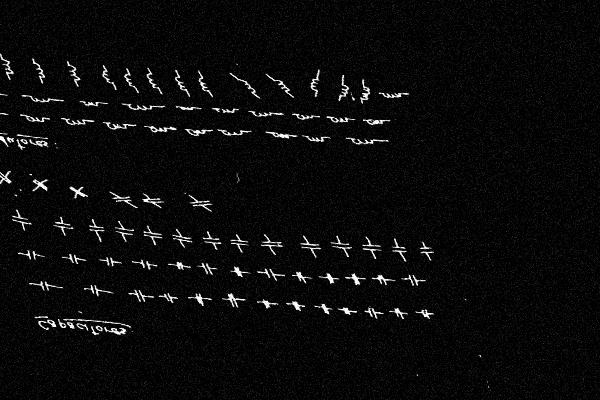capacitor: (358, 237, 386, 258), (326, 237, 357, 255), (295, 237, 325, 255), (256, 236, 286, 252), (258, 265, 283, 284), (49, 217, 76, 234), (221, 290, 243, 310), (196, 259, 219, 278), (185, 196, 216, 210), (403, 271, 427, 289), (8, 212, 35, 228), (227, 235, 254, 251), (168, 231, 196, 246), (32, 278, 58, 294), (387, 240, 410, 258), (110, 223, 137, 238), (188, 290, 210, 308), (371, 271, 394, 288), (134, 256, 158, 272), (344, 270, 365, 288), (138, 194, 167, 207), (200, 233, 225, 248), (128, 287, 150, 304), (319, 269, 339, 287), (416, 242, 437, 259), (227, 264, 249, 280), (140, 228, 165, 242), (84, 221, 108, 235), (84, 282, 105, 298), (291, 269, 312, 285), (314, 300, 333, 317), (67, 185, 90, 199), (30, 177, 51, 192), (21, 248, 43, 262), (286, 298, 305, 314), (64, 252, 85, 266), (109, 194, 135, 205), (158, 291, 177, 306), (388, 307, 408, 321), (364, 306, 382, 321), (257, 296, 275, 311), (170, 259, 190, 272), (338, 303, 355, 318), (101, 254, 119, 268), (418, 308, 435, 321), (0, 170, 14, 185)
inductor: (233, 75, 257, 97), (171, 72, 192, 96), (304, 72, 325, 96), (332, 77, 353, 101), (268, 76, 293, 96), (97, 66, 119, 88), (143, 70, 164, 93), (346, 134, 378, 149), (354, 81, 375, 103), (30, 59, 50, 82), (195, 73, 215, 96), (23, 93, 58, 106), (64, 62, 84, 84), (21, 111, 50, 126), (124, 101, 159, 113), (120, 68, 139, 90), (0, 55, 17, 78), (62, 116, 91, 129), (302, 132, 329, 145), (326, 112, 353, 125), (104, 120, 133, 132), (185, 126, 211, 139), (379, 89, 405, 102), (145, 124, 173, 136), (249, 108, 276, 120), (362, 116, 388, 128), (292, 111, 318, 123), (218, 127, 246, 138), (268, 130, 296, 141), (213, 105, 238, 117), (80, 98, 103, 109), (177, 103, 198, 114), (0, 108, 3, 120), (0, 87, 0, 100)
